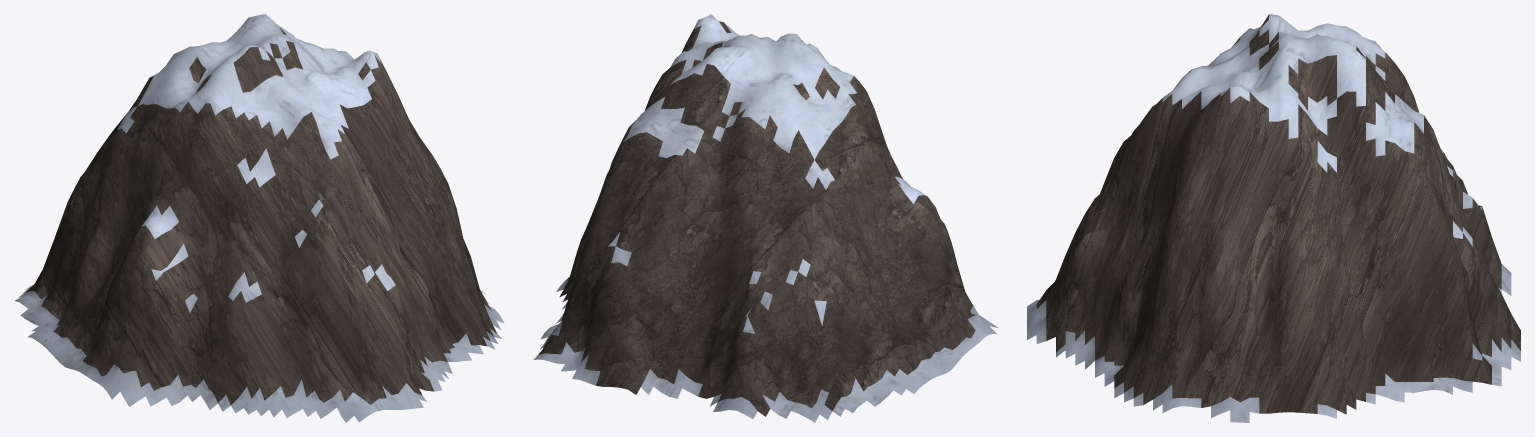
Rendered from border_shelf_b_v5_winter.glb.
3 views of the same model, side by side, from view 1: azimuth 30°, elevation 25°; view 2: azimuth 150°, elevation 25°; view 3: azimuth 270°, elevation 25° (orthographic). The views are drawn at different scales.
Visible parts, largest first — view 1: border_shelf_b; view 2: border_shelf_b; view 3: border_shelf_b.
Part boxes in pixels (x1=…): border_shelf_b: x1=15, y1=14, x2=504, y2=422; border_shelf_b: x1=533, y1=14, x2=997, y2=422; border_shelf_b: x1=1027, y1=14, x2=1520, y2=422.
Bounding box in the file's own units: 0.9796 × 0.694 × 1.04.
2 materials, 2 textured.
